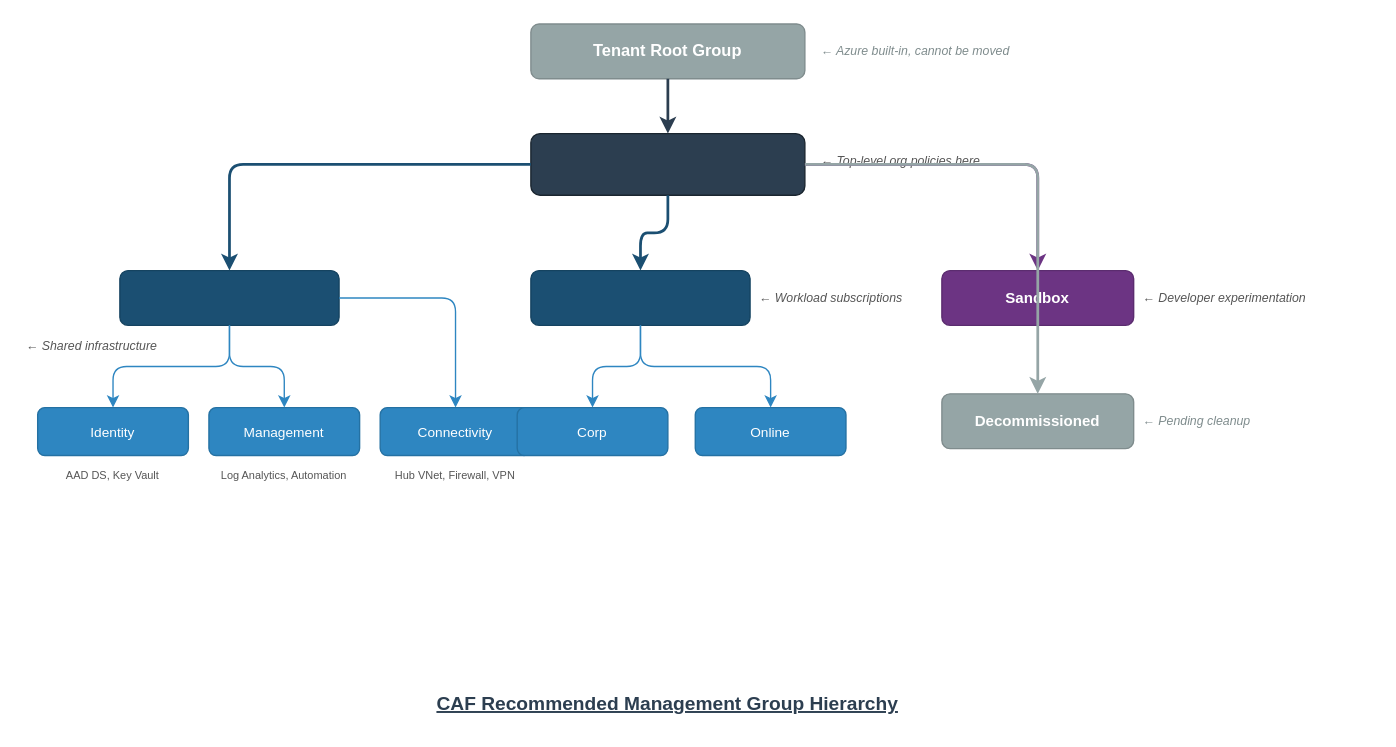
The diagram is 1396 pixels wide and 747 high, and some of its shapes have lost their labels. The shapes that lost their labels are listed below. From the top down, each one's centre as x and y in pixels, then its label:
At (667,163): "mg-contoso (Organization Root)".
At (229,297): "Platform".
At (640,297): "Landing Zones".
